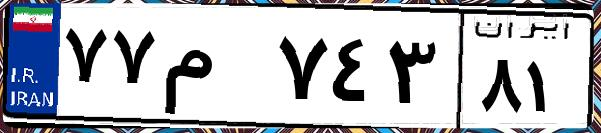1: (525, 38, 570, 115)
3: (385, 28, 445, 110)
4: (330, 28, 385, 110)
7: (270, 28, 330, 110), (57, 26, 110, 100), (110, 28, 158, 98)
8: (475, 38, 525, 113)
م: (158, 20, 270, 120)
